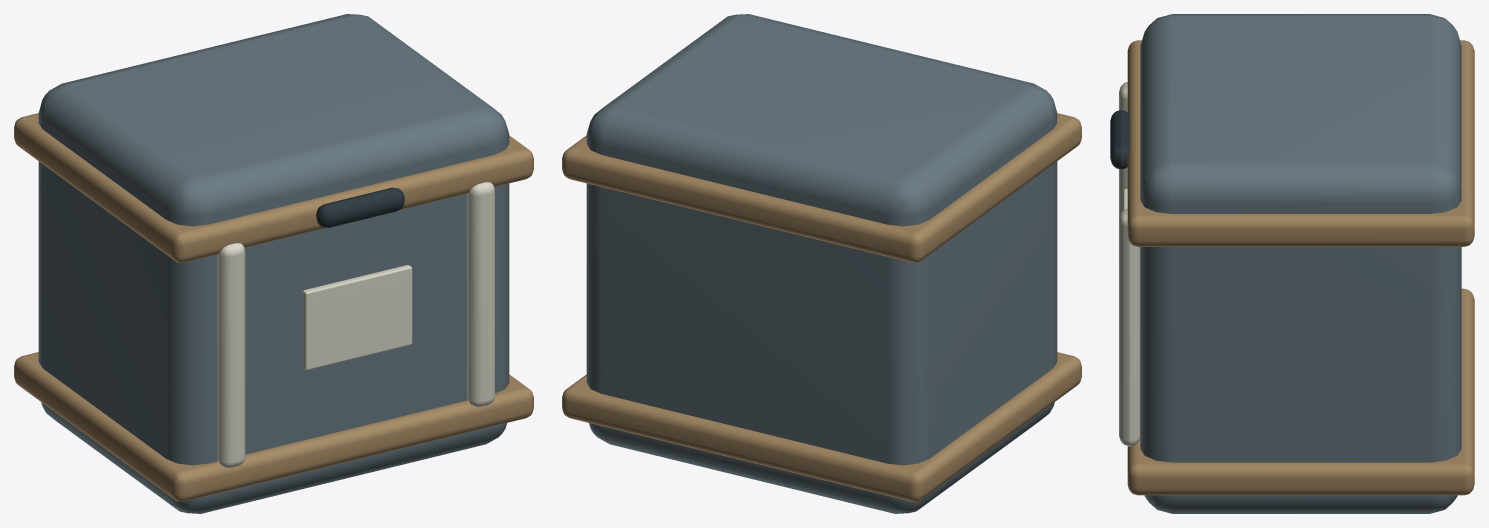
Rendered from crate.glb.
The picture shows the model from 3 angles, left to right: view 1: azimuth 30°, elevation 25°; view 2: azimuth 150°, elevation 25°; view 3: azimuth 270°, elevation 25°; orthographic projection. The views are drawn at different scales.
Visible parts, largest first — view 1: crate_metal, crate_bronze, crate_ivory, crate_dark; view 2: crate_metal, crate_bronze; view 3: crate_metal, crate_bronze, crate_ivory, crate_dark.
Boxes of the visible parts, <box> form: crate_metal: <box>38,14,509,513</box>; crate_bronze: <box>14,113,533,501</box>; crate_ivory: <box>217,182,494,468</box>; crate_dark: <box>316,187,404,227</box>; crate_metal: <box>586,14,1057,513</box>; crate_bronze: <box>562,113,1081,501</box>; crate_metal: <box>1140,14,1461,513</box>; crate_bronze: <box>1127,40,1474,495</box>; crate_ivory: <box>1119,82,1140,446</box>; crate_dark: <box>1110,110,1129,169</box>.
Size of the model in its own units: 1.01 by 0.9 by 0.85.
